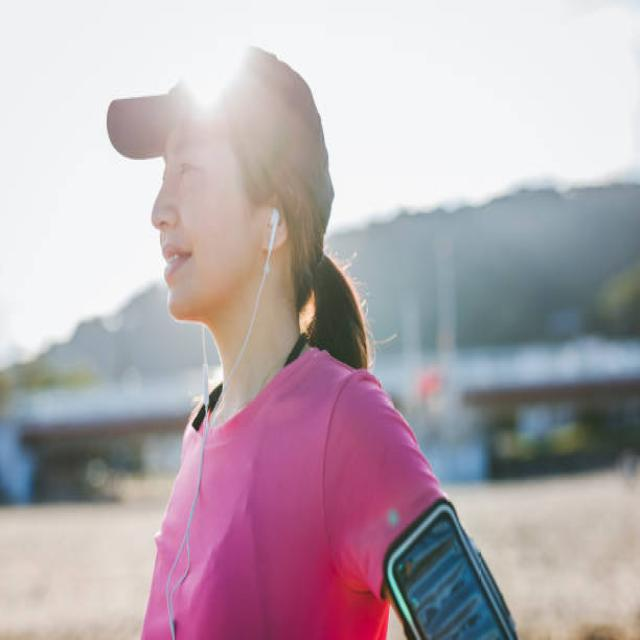Earphone: (164, 206, 280, 637)
